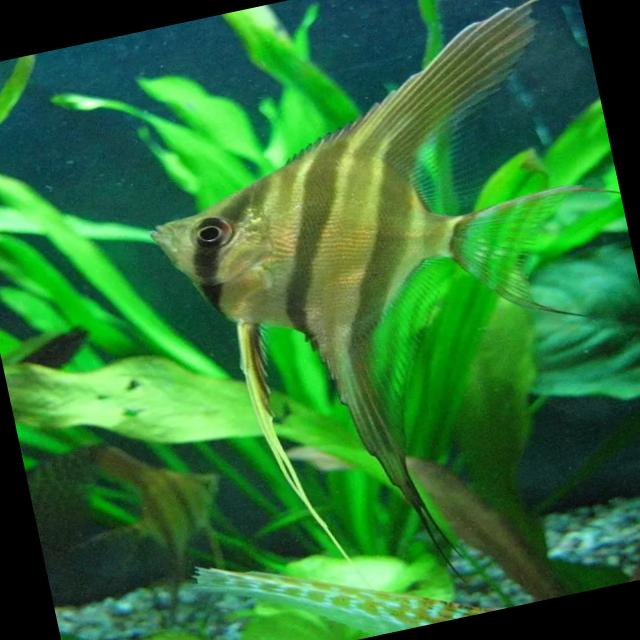AngelFish: (117, 0, 640, 621)
